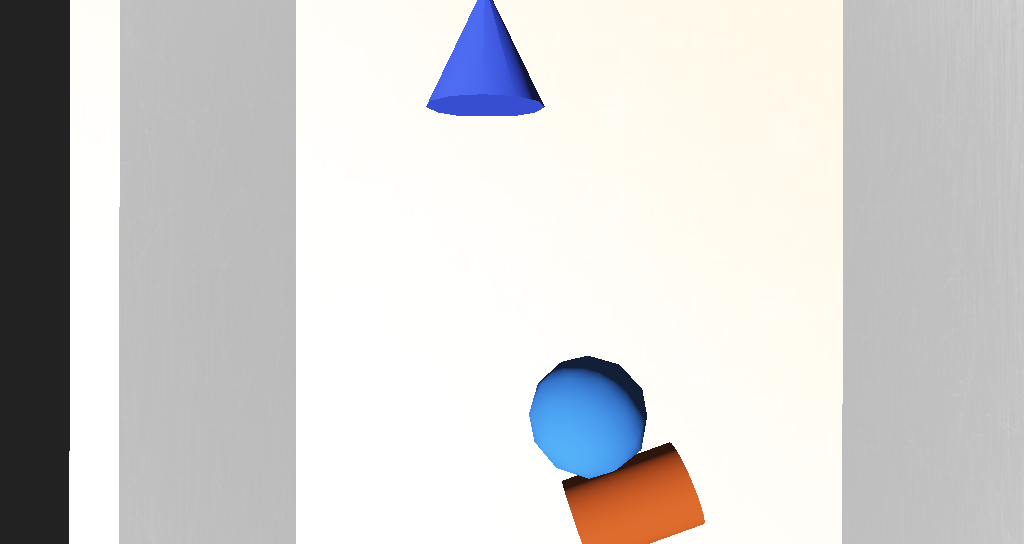cone: (502, 332, 576, 384)
cylinder: (428, 153, 488, 210)
sphere: (478, 303, 546, 346)
